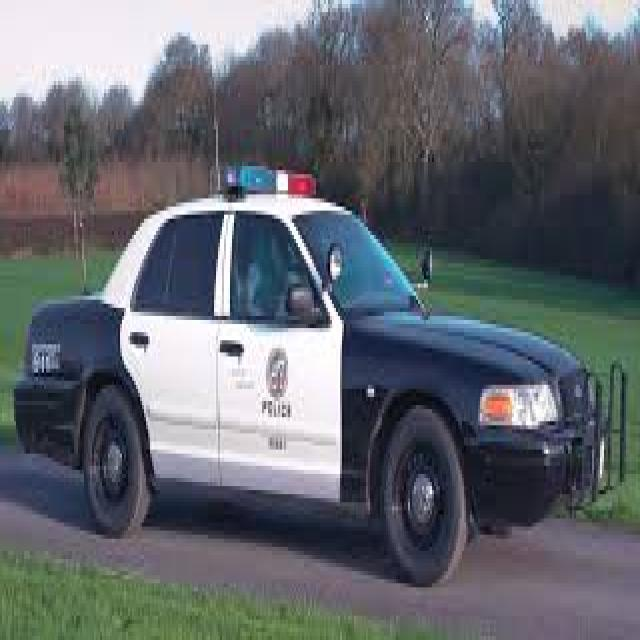Police: (2, 140, 633, 608)
